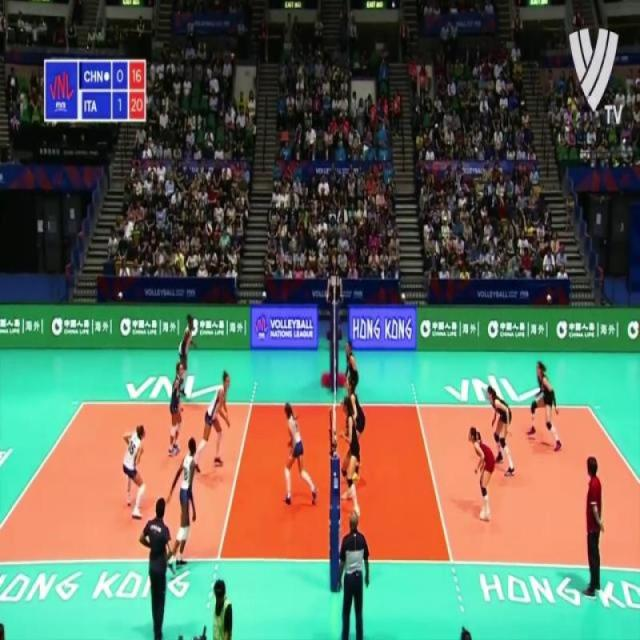volleyball: (205, 222, 213, 236)
